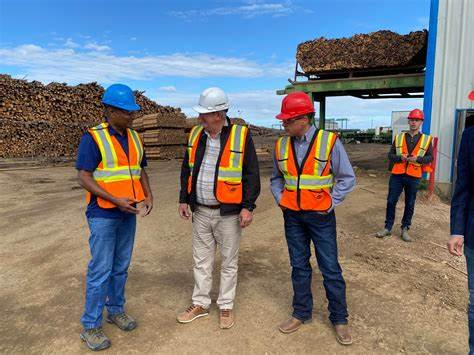Helmet: (99, 81, 144, 142), (190, 86, 239, 140), (274, 92, 323, 139), (405, 106, 426, 132)
Reflective vest: (78, 123, 149, 210), (273, 128, 340, 214), (187, 122, 252, 207), (389, 130, 435, 183)
